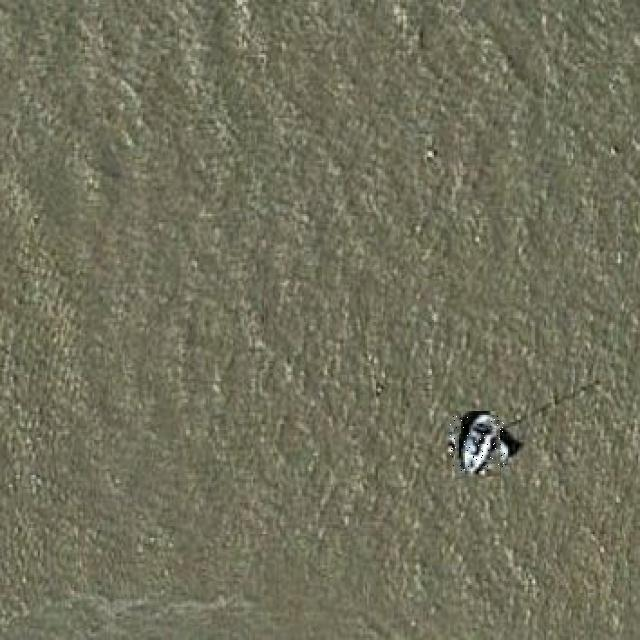boat: (449, 416, 506, 473)
